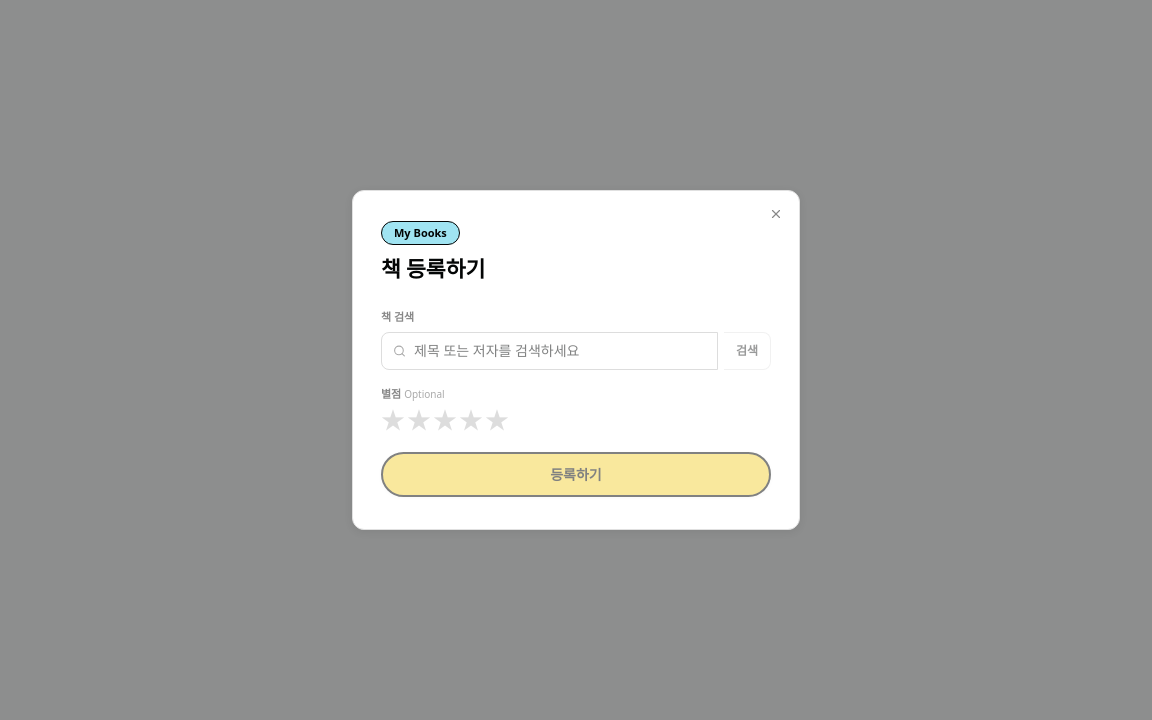
it: RegisterBookPopup › shows error message when registration API fails
Type "해리포터" into the field with placeholder "제목 또는 저자를 검색하세요". click: (549, 351)
box: [381,332,718,370]
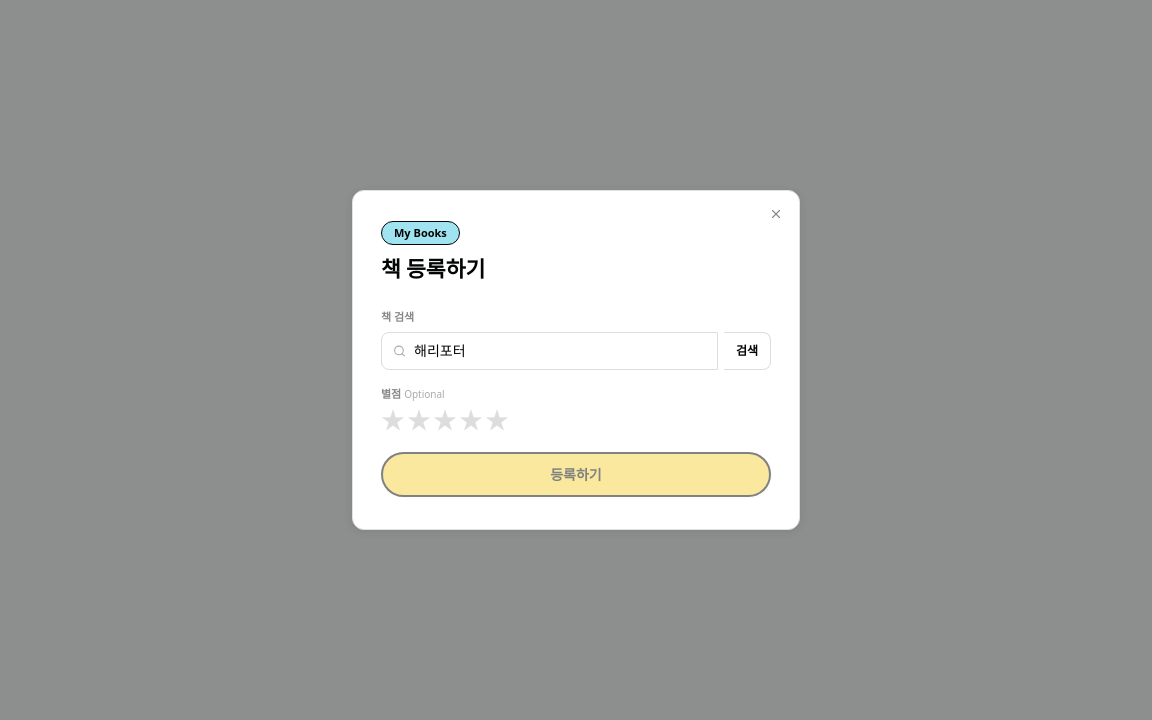
Click the button "검색". click: (747, 351)
box: [724,332,771,370]
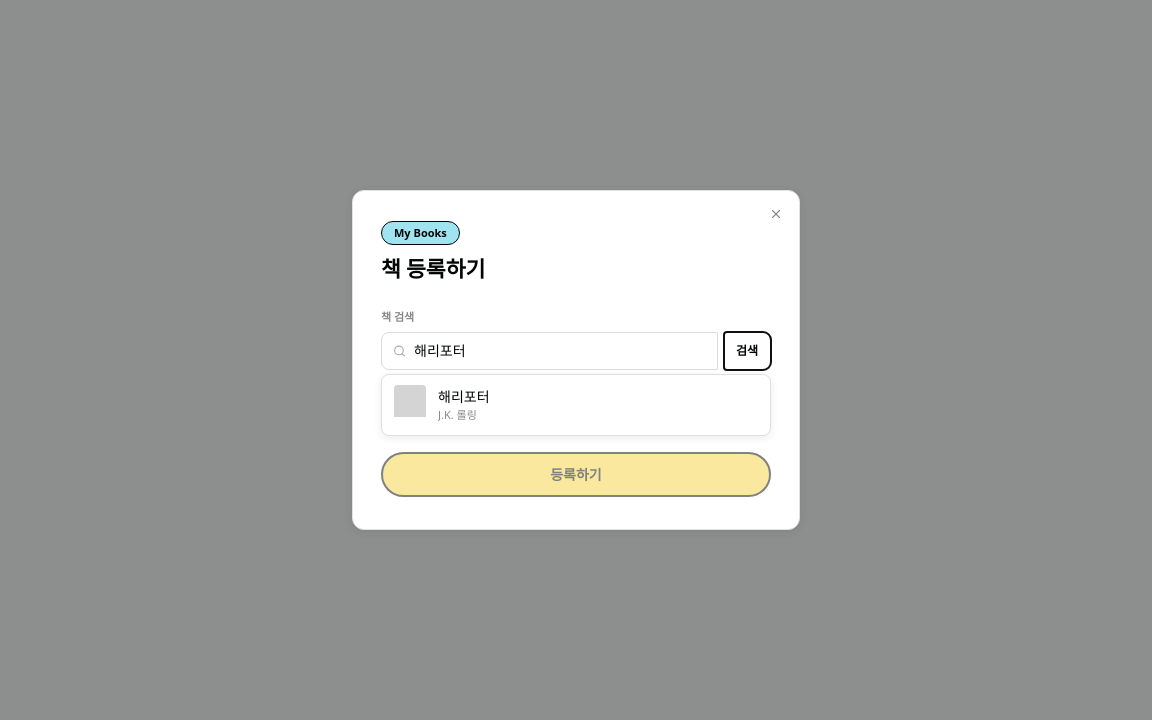
Expected: the text "해리포터" is shown
Click the text "해리포터". click: (464, 397)
box: [438,387,490,407]
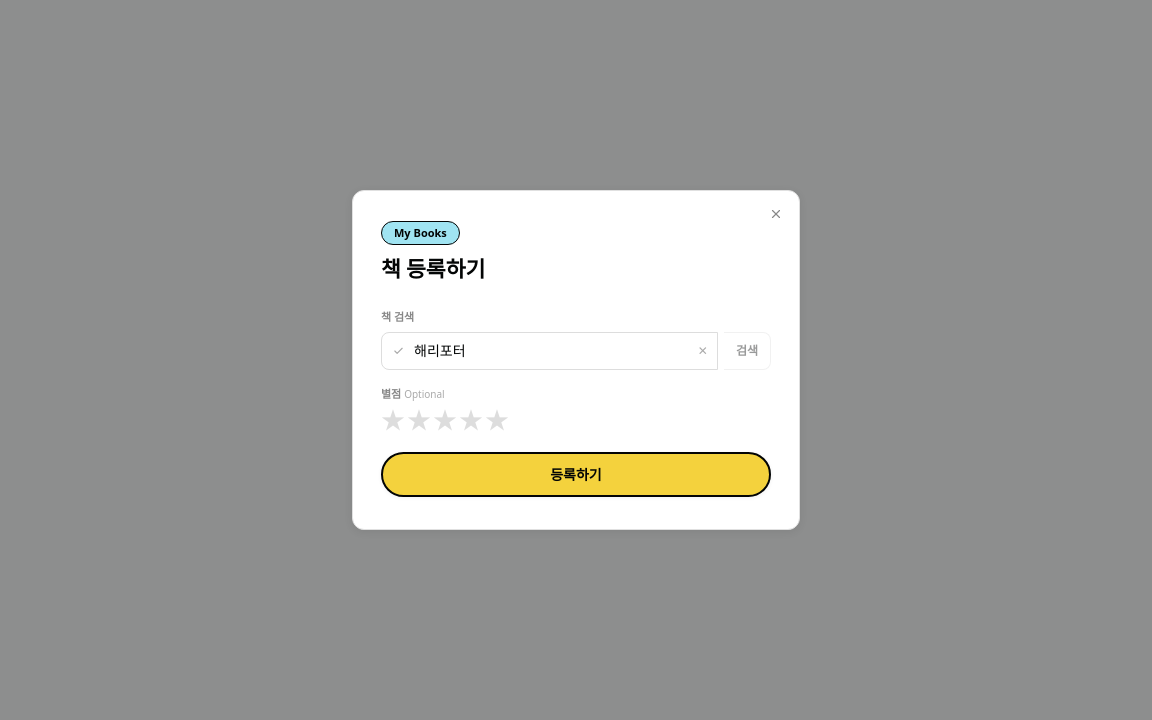
Click the button "등록하기". click: (576, 475)
box: [381,452,771,497]
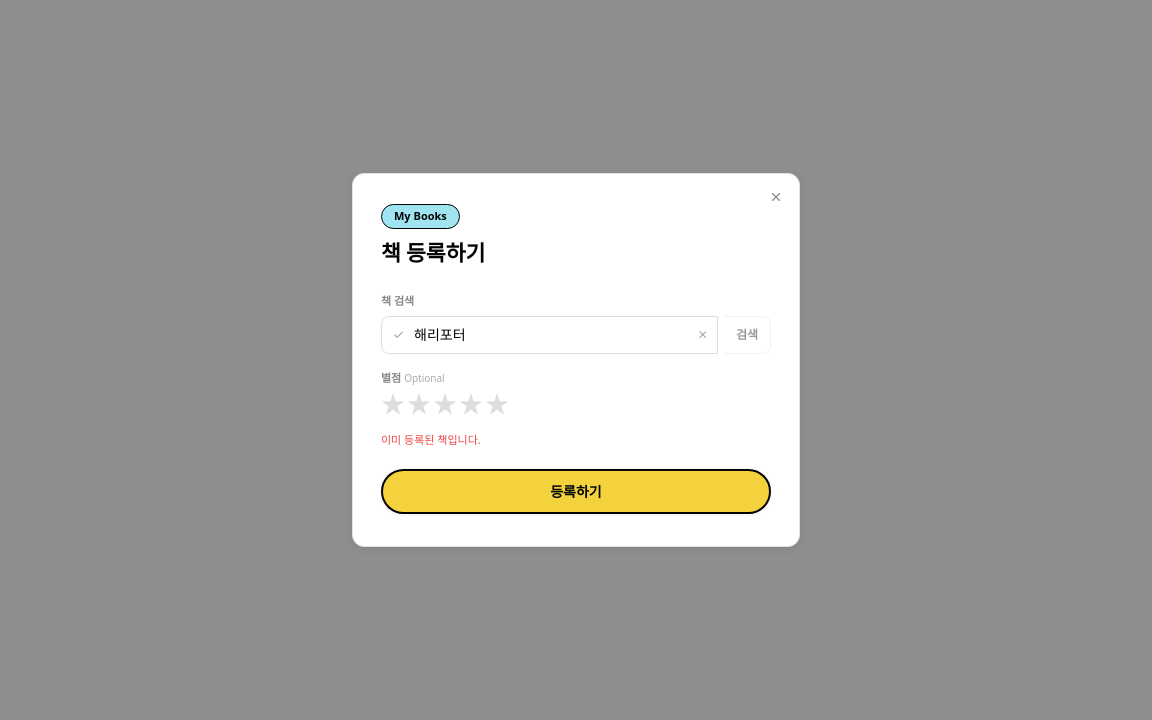
Expected: the text "이미 등록된 책입니다." is shown, [381,432,481,447]
